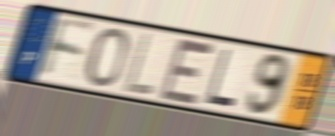9: (243, 52, 293, 118)
E: (156, 35, 219, 108)
F: (38, 14, 98, 81)
L: (121, 31, 157, 99), (203, 46, 238, 110)
O: (85, 26, 129, 89)
